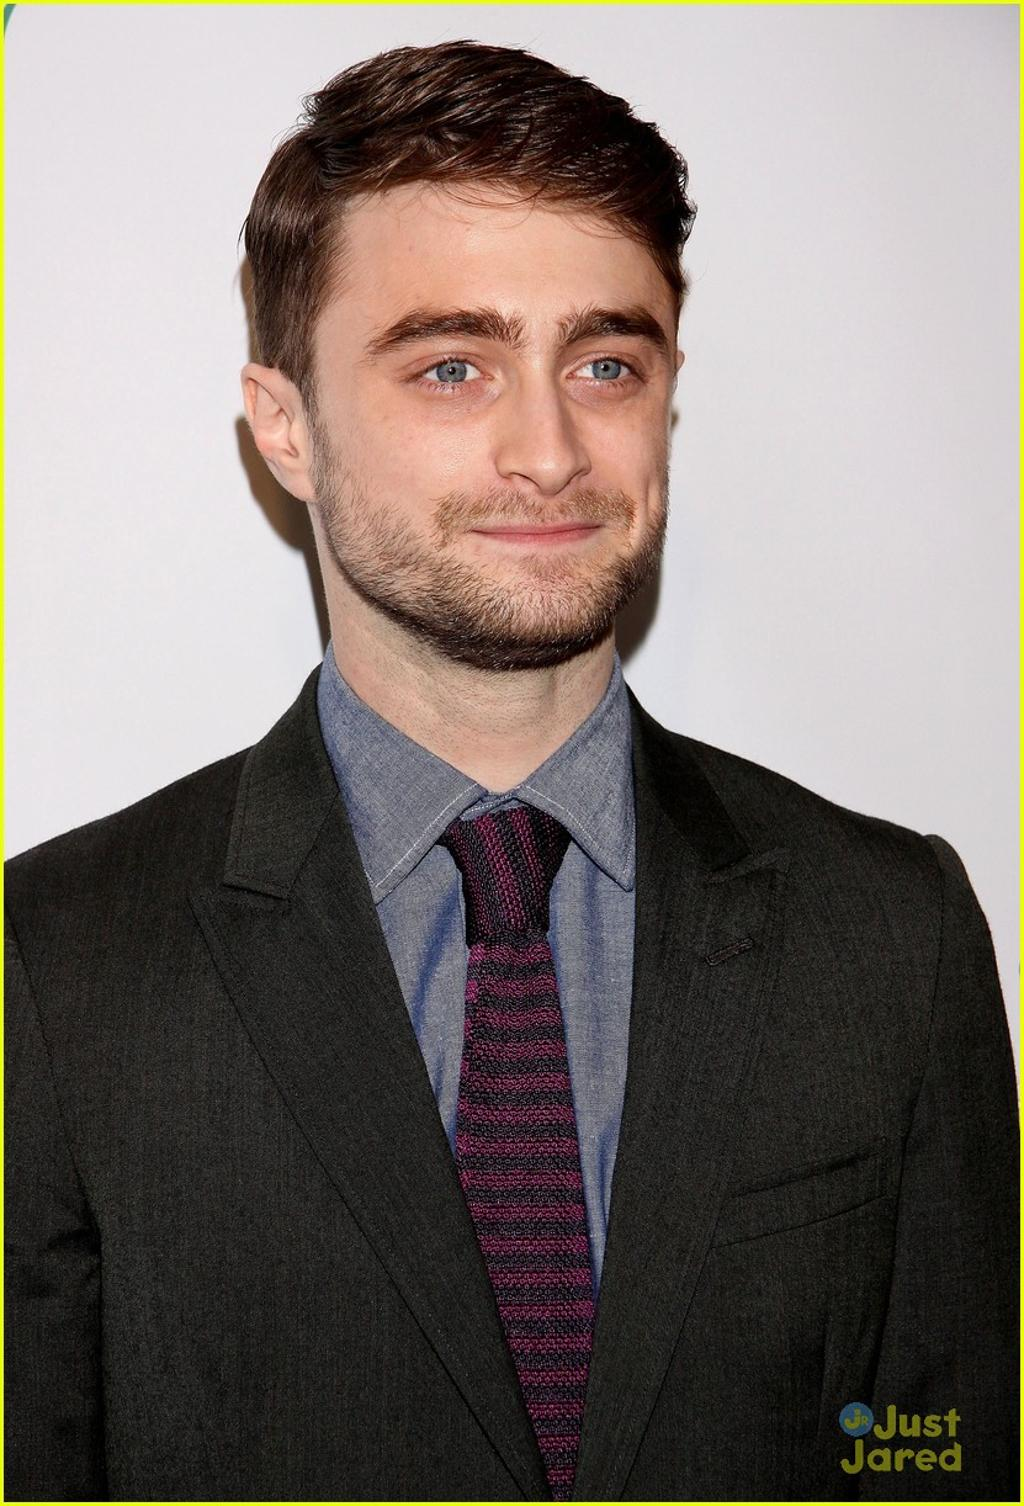face: (303, 129, 671, 632)
